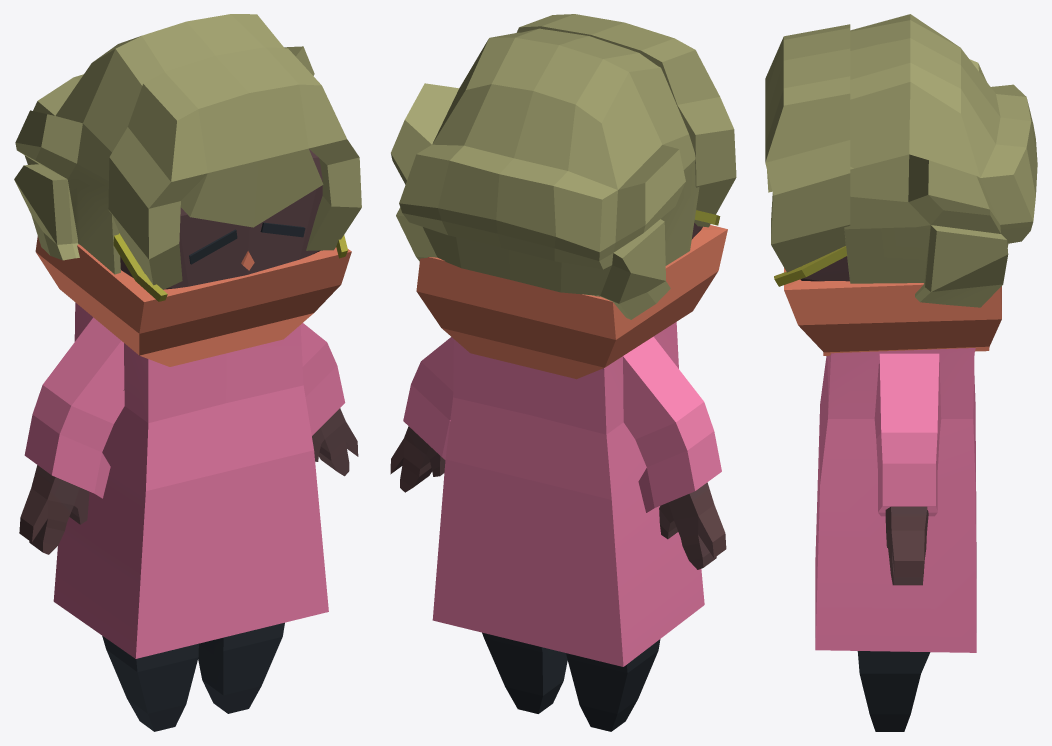
File: Child 2.fbx
The picture shows the model from 3 angles, left to right: view 1: azimuth 30°, elevation 25°; view 2: azimuth 150°, elevation 25°; view 3: azimuth 270°, elevation 25°; orthographic projection.
Parts seen in each view (by area): view 1: Olhos.002; view 2: Olhos.002; view 3: Olhos.002.
Boxes of the visible parts, x1=… form: Olhos.002: x1=14, y1=14, x2=361, y2=731; Olhos.002: x1=390, y1=14, x2=736, y2=731; Olhos.002: x1=765, y1=14, x2=1037, y2=731.
Size of the model in its own units: 73.71 by 148 by 54.38.
